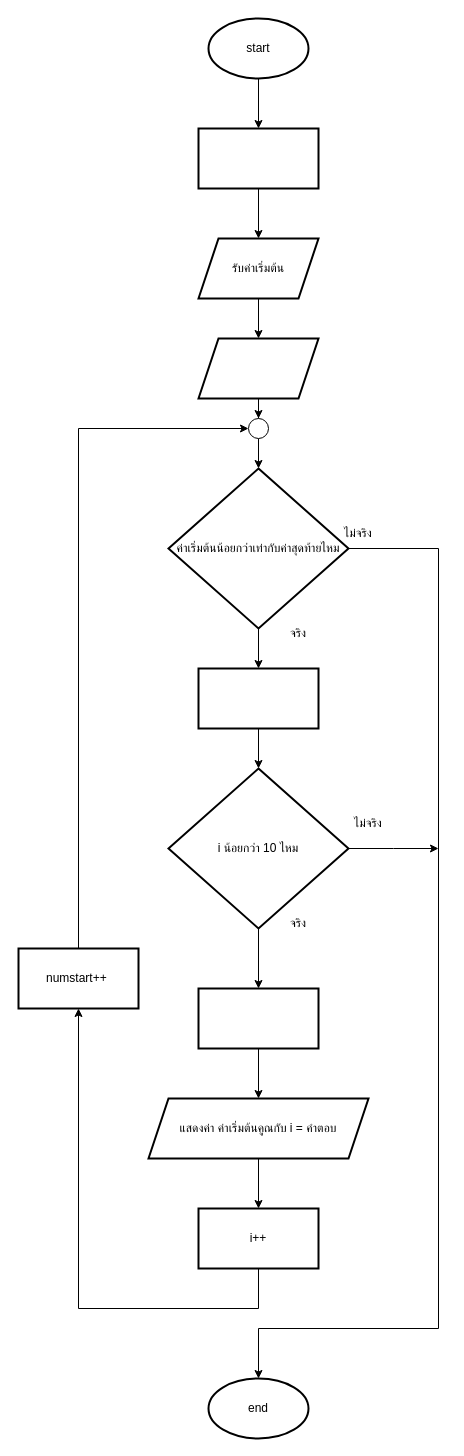
This 464x1456 diagram has some shape labels left out. The centre of each missing label's shape, as x and y in pixels:
"answer = numstart x i" belongs at point 258,1018.
"i = 1" belongs at point 258,698.
"กำหนดตัวแปรมา เลขเริ่ม เลขจบ คำตอบ i" belongs at point 258,158.
"รับค่าสุดท้าย" belongs at point 258,368.
